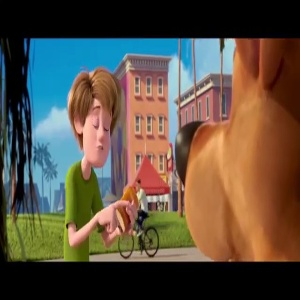Shagy: (69, 64, 125, 171)
